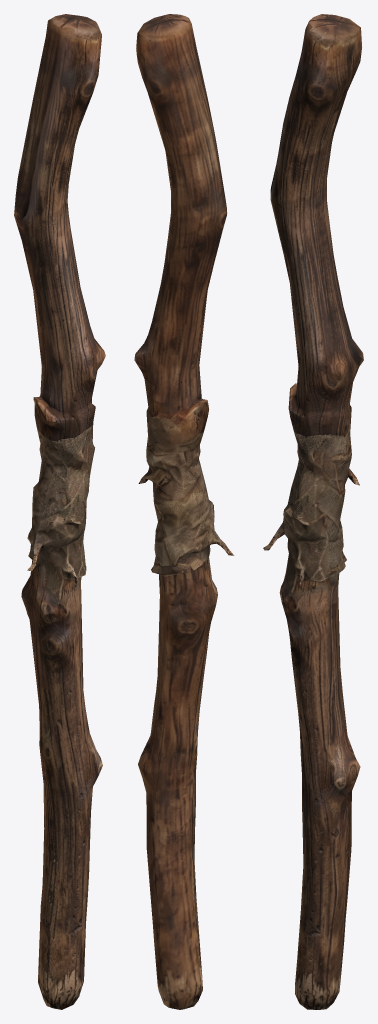
The model's file is SM_Staff_Basic_Wooden_Staff.FBX.
3 views of the same model, side by side, from view 1: azimuth 30°, elevation 25°; view 2: azimuth 150°, elevation 25°; view 3: azimuth 330°, elevation 25° (orthographic).
Visible parts, largest first — view 1: SM_Staff_Basic_Wooden_Staff; view 2: SM_Staff_Basic_Wooden_Staff; view 3: SM_Staff_Basic_Wooden_Staff.
Part boxes in pixels (<box>): SM_Staff_Basic_Wooden_Staff: <box>14,14,105,1009</box>; SM_Staff_Basic_Wooden_Staff: <box>134,14,234,1009</box>; SM_Staff_Basic_Wooden_Staff: <box>263,14,363,1009</box>.
Size of what is drawn, in the model's own units: 13.66 by 9.61 by 160.
